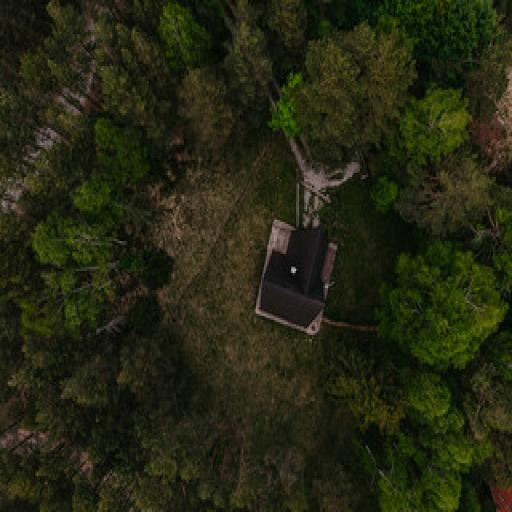tree-top: (374, 241, 504, 372), (302, 18, 392, 151), (396, 0, 500, 84), (402, 162, 496, 245), (336, 351, 410, 437), (112, 325, 182, 415), (396, 82, 474, 161), (21, 272, 103, 346), (178, 70, 246, 150), (152, 0, 219, 67), (224, 16, 278, 98), (464, 366, 512, 451), (27, 214, 98, 268), (403, 372, 459, 430), (90, 114, 148, 168), (62, 357, 114, 411), (422, 458, 466, 512), (90, 57, 134, 109), (435, 431, 482, 473), (379, 462, 418, 512), (71, 172, 118, 213), (270, 91, 305, 142), (367, 173, 402, 214)
